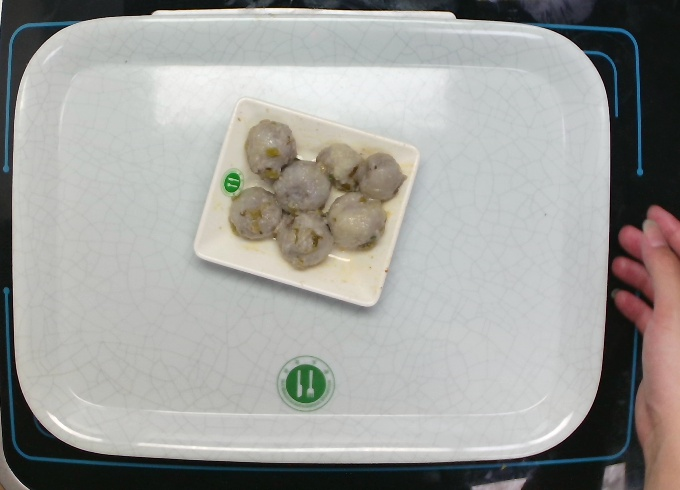WCQzf-Bai_Se_Si_Fang_Die: (189, 89, 423, 314)
